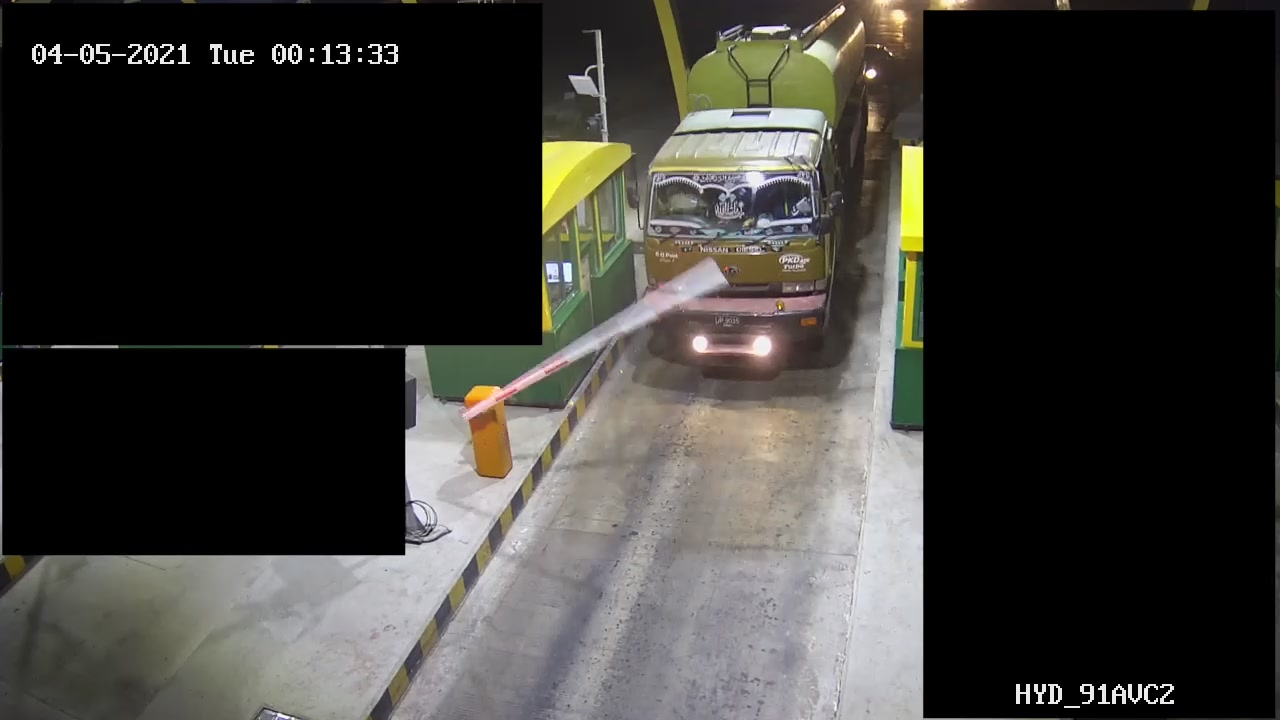F6: (640, 1, 872, 386)
